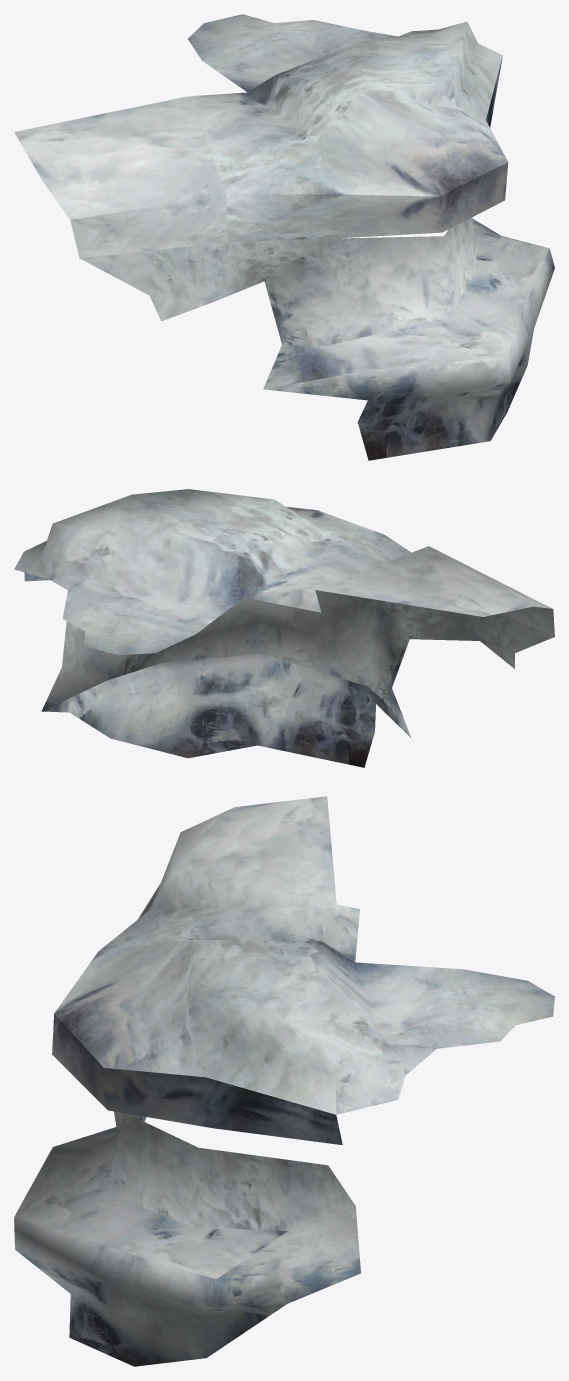
File: S_Rock_White018_2.FBX
3 renders of one model, top to bottom at view 1: azimuth 30°, elevation 25°; view 2: azimuth 150°, elevation 25°; view 3: azimuth 270°, elevation 25°, orthographic. The views are drawn at different scales.
Visible parts, largest first — view 1: S_Rock_White018_2; view 2: S_Rock_White018_2; view 3: S_Rock_White018_2.
Boxes of the visible parts, x1=… form: S_Rock_White018_2: x1=14, y1=14, x2=554, y2=460; S_Rock_White018_2: x1=14, y1=489, x2=554, y2=767; S_Rock_White018_2: x1=14, y1=796, x2=554, y2=1366.
Bounding box in the file's own units: 824 × 688 × 509.
